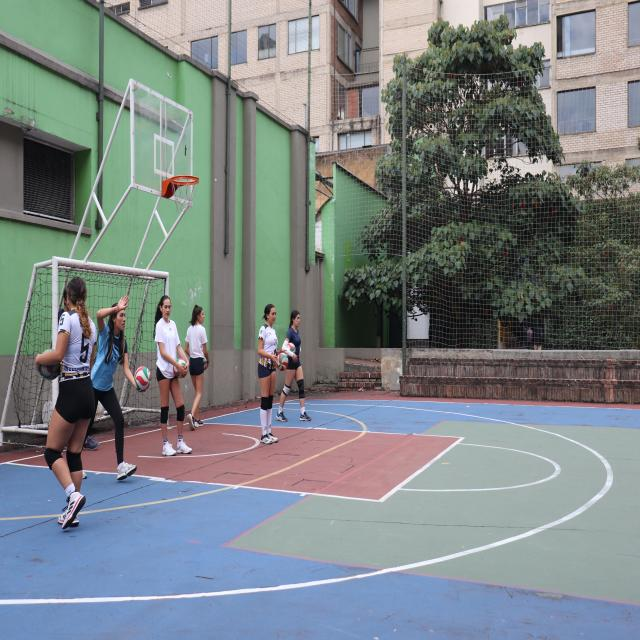volleyball: (135, 366, 151, 391), (277, 353, 288, 371), (286, 342, 296, 353)
